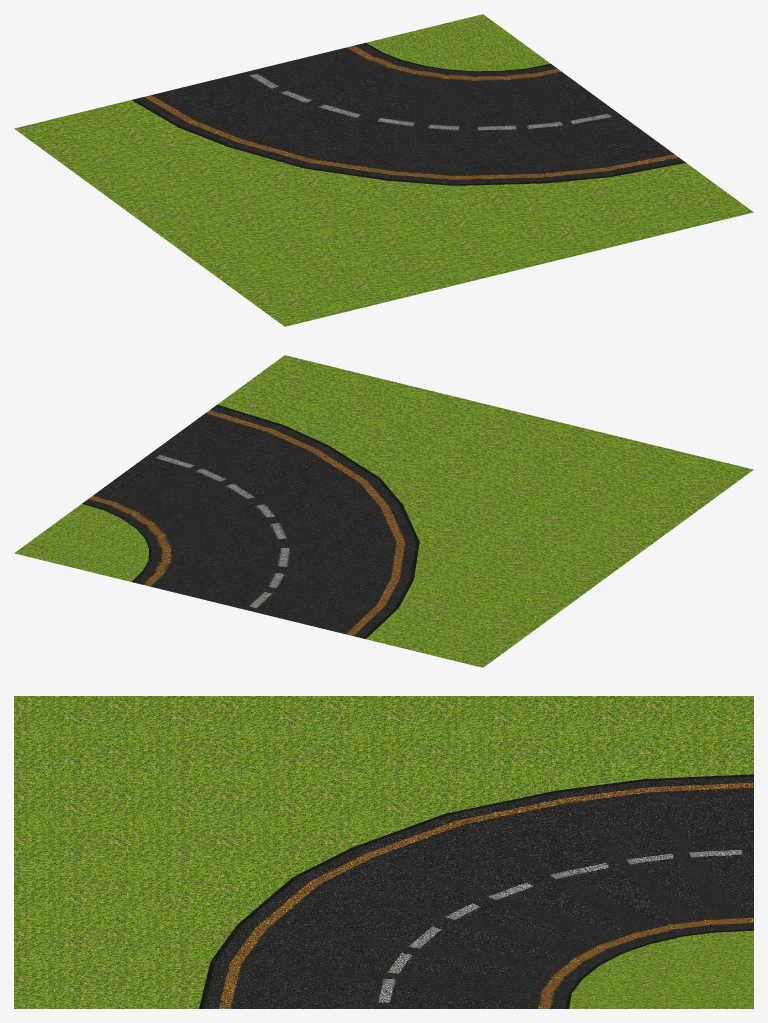
Rendered from L_Ground.fbx.
3 views of the same model, one above another, from view 1: azimuth 30°, elevation 25°; view 2: azimuth 150°, elevation 25°; view 3: azimuth 270°, elevation 25° (orthographic). The views are drawn at different scales.
Visible parts, largest first — view 1: Plane; view 2: Plane; view 3: Plane.
Part boxes in pixels (box(x1,y1,x2,y2)): Plane: box(14, 14, 753, 326); Plane: box(14, 355, 753, 667); Plane: box(14, 696, 753, 1008).
Size of the model in its own units: 400 by 6.52e-05 by 400.
2 materials, 2 textured.
